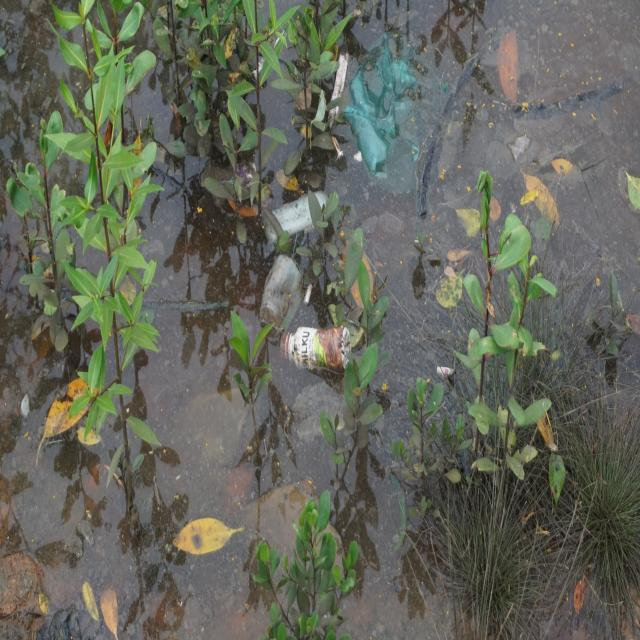Botol Plastik: (279, 321, 355, 377)
Bungkus Minuman: (259, 247, 307, 333)
Kantong Plastik: (349, 33, 429, 199)
